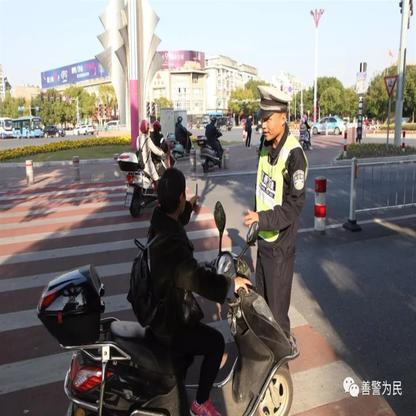target: (43, 166, 299, 411)
